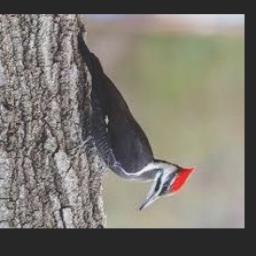Woodpecker: (72, 26, 195, 212)
